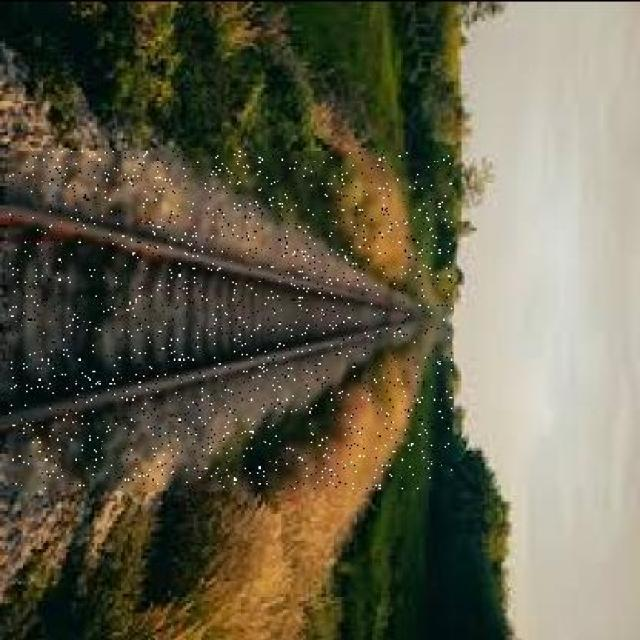rail: (10, 152, 452, 489)
